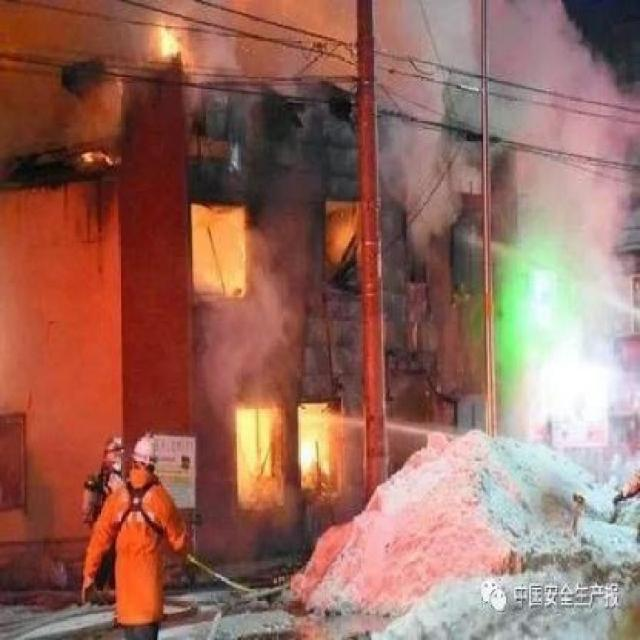Fire: (190, 203, 246, 292), (294, 402, 336, 489), (230, 404, 273, 488), (150, 21, 183, 57), (82, 146, 110, 171)
Smoke: (516, 13, 632, 238), (206, 289, 294, 386)
